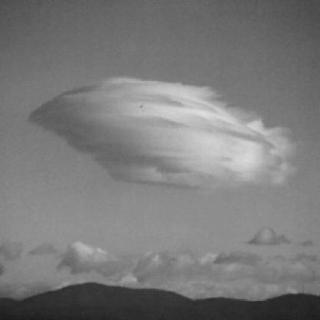Altocumulus: (27, 62, 314, 200), (0, 208, 320, 291)
